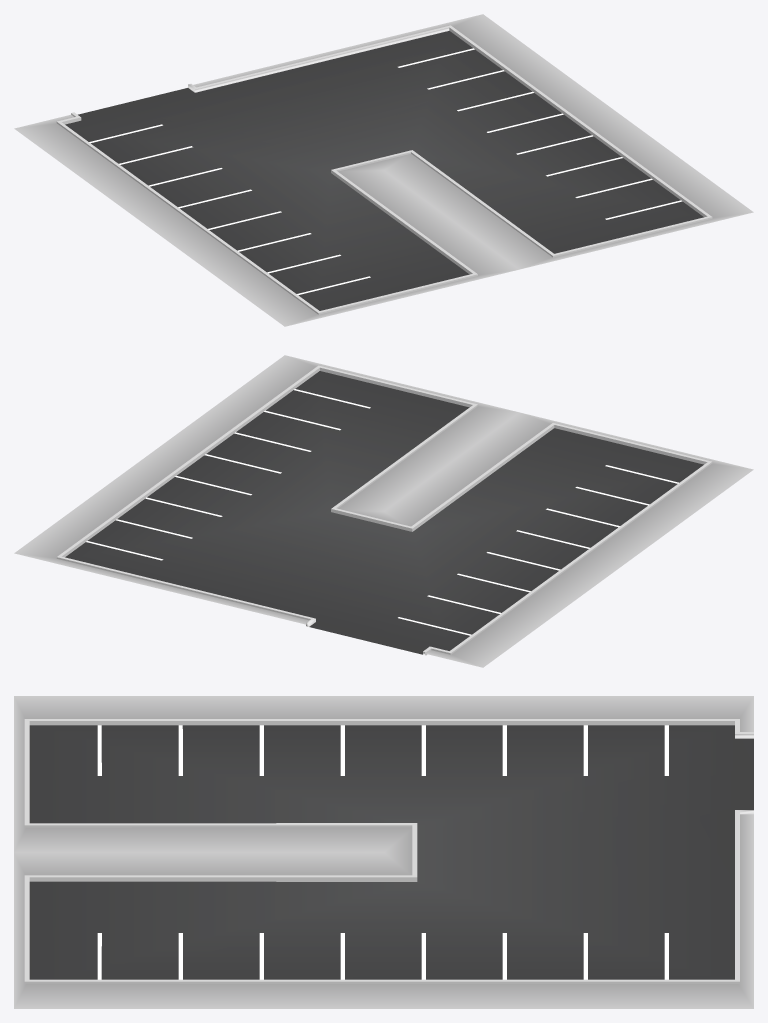
Rendered from parking_007.glb.
3 views of the same model, one above another, from view 1: azimuth 30°, elevation 25°; view 2: azimuth 150°, elevation 25°; view 3: azimuth 270°, elevation 25° (orthographic). The views are drawn at different scales.
Parts seen in each view (by area): view 1: parking_007; view 2: parking_007; view 3: parking_007.
Boxes of the visible parts, x1,y1,x2,y2 form: parking_007: [14, 14, 753, 326]; parking_007: [14, 355, 753, 667]; parking_007: [14, 696, 753, 1008].
Bounding box in the file's own units: 30 × 0.2 × 30.
1 material, 1 textured.
